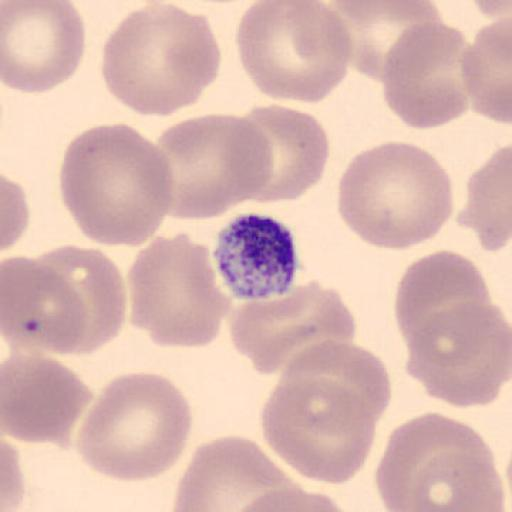Platelet: (210, 210, 302, 302)
RBC: (59, 122, 176, 250), (99, 0, 222, 118), (76, 371, 194, 484), (336, 140, 455, 252), (154, 112, 274, 222), (259, 378, 378, 485), (228, 280, 358, 377), (373, 410, 496, 512), (235, 0, 354, 104), (126, 233, 232, 348), (403, 300, 511, 409), (31, 242, 127, 356), (227, 103, 332, 204), (394, 248, 492, 354), (278, 338, 393, 426), (380, 21, 472, 130), (324, 0, 445, 82), (171, 433, 295, 512), (3, 249, 91, 358), (2, 350, 93, 448), (0, 0, 88, 95), (408, 450, 506, 512), (459, 14, 512, 126), (459, 142, 512, 254), (230, 485, 358, 512), (2, 172, 32, 254), (1, 434, 25, 512), (471, 0, 512, 28), (470, 0, 511, 21)
